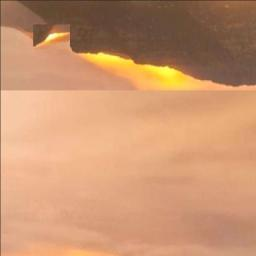Large fire: (34, 16, 215, 90)
